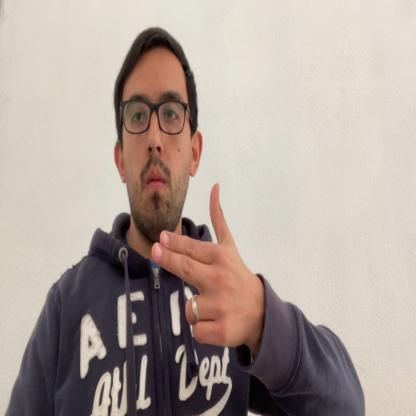H: (150, 181, 245, 350)
